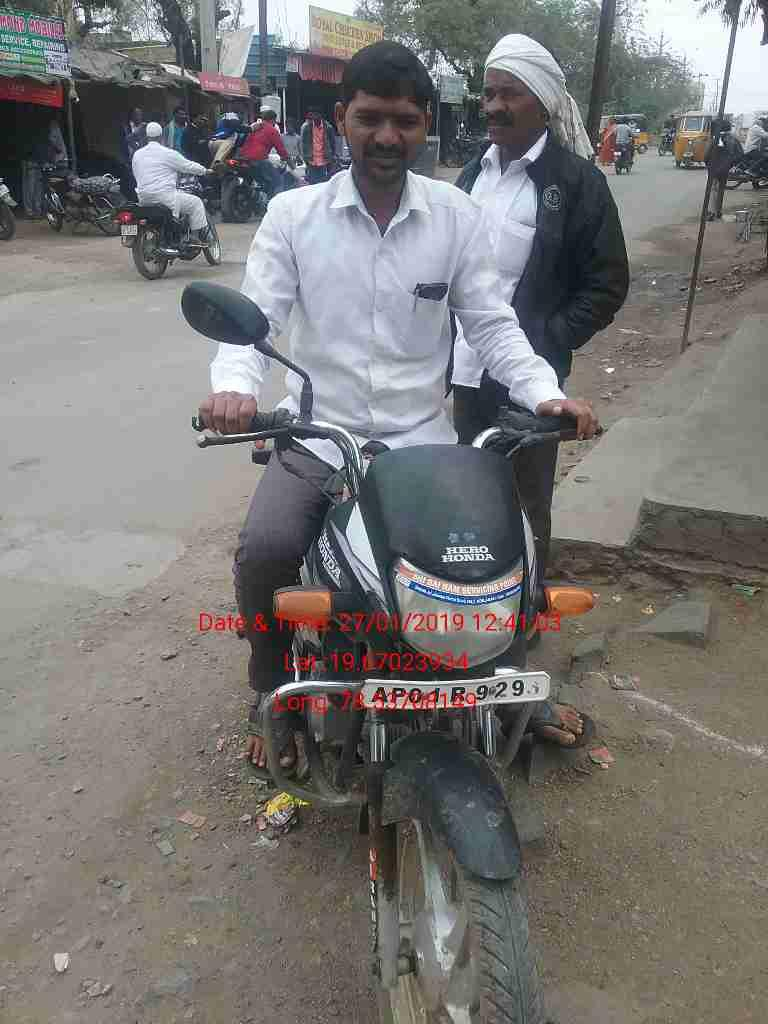plate: (354, 669, 558, 716)
